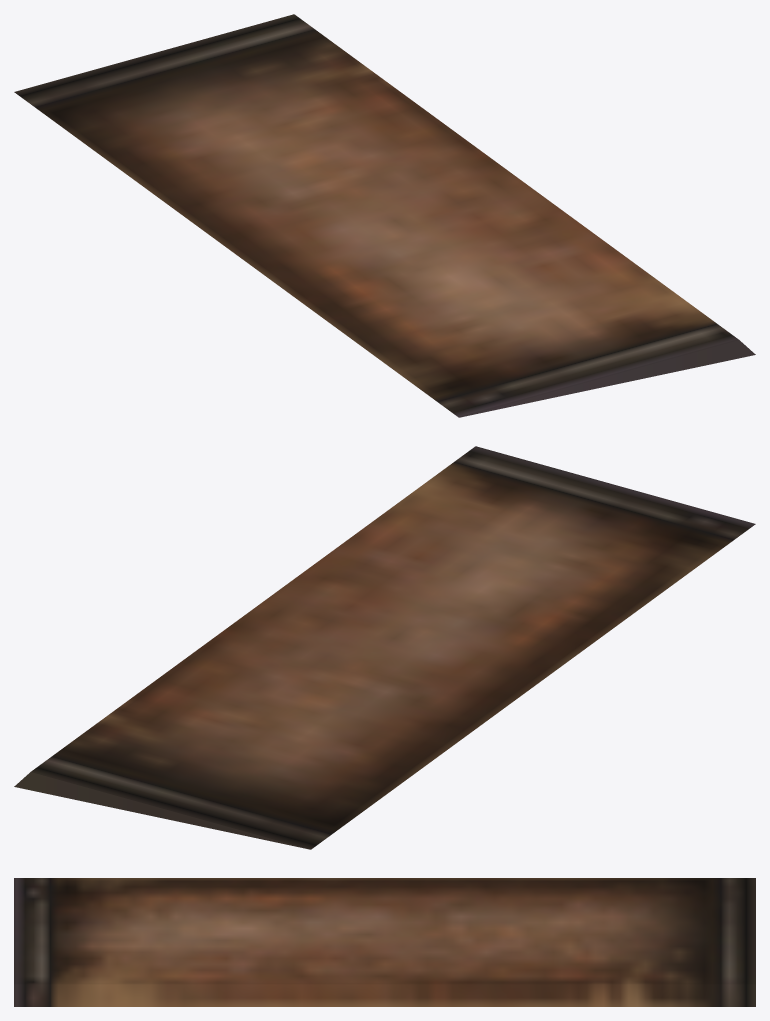
3 views of the same model, one above another, from view 1: azimuth 30°, elevation 25°; view 2: azimuth 150°, elevation 25°; view 3: azimuth 270°, elevation 25° (orthographic). The views are drawn at different scales.
Visible parts, largest first — view 1: Box17; view 2: Box17; view 3: Box17.
Boxes of the visible parts, left/top/right/bottom form: Box17: left=14, top=14, right=755, bottom=417; Box17: left=14, top=446, right=755, bottom=849; Box17: left=14, top=878, right=755, bottom=1006.
Bounding box in the file's own units: 177 × 10.8 × 458.
1 material, 1 textured.
